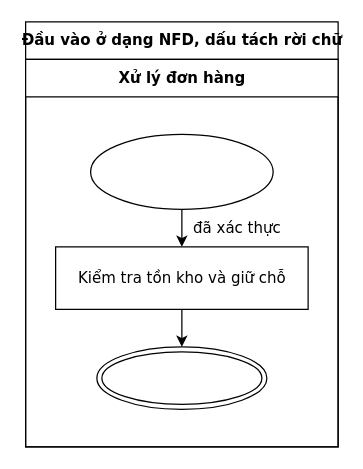
The diagram is 363 pixels wide and 469 high, and some of its shapes have lost their labels. The centre of each missing label's shape, as x and y in pixels:
"Nhận yêu cầu từ người dùng" goes at [181,171].
"Trả kết quả" goes at [181,377].
